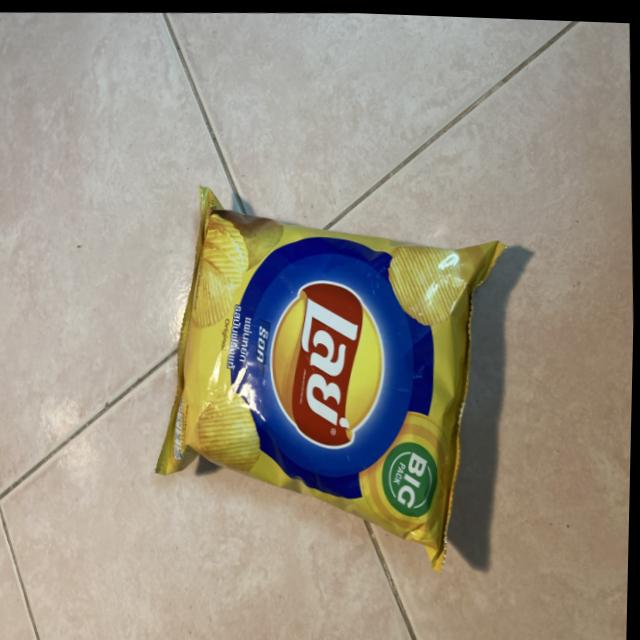LayYellow: (153, 185, 510, 531)
